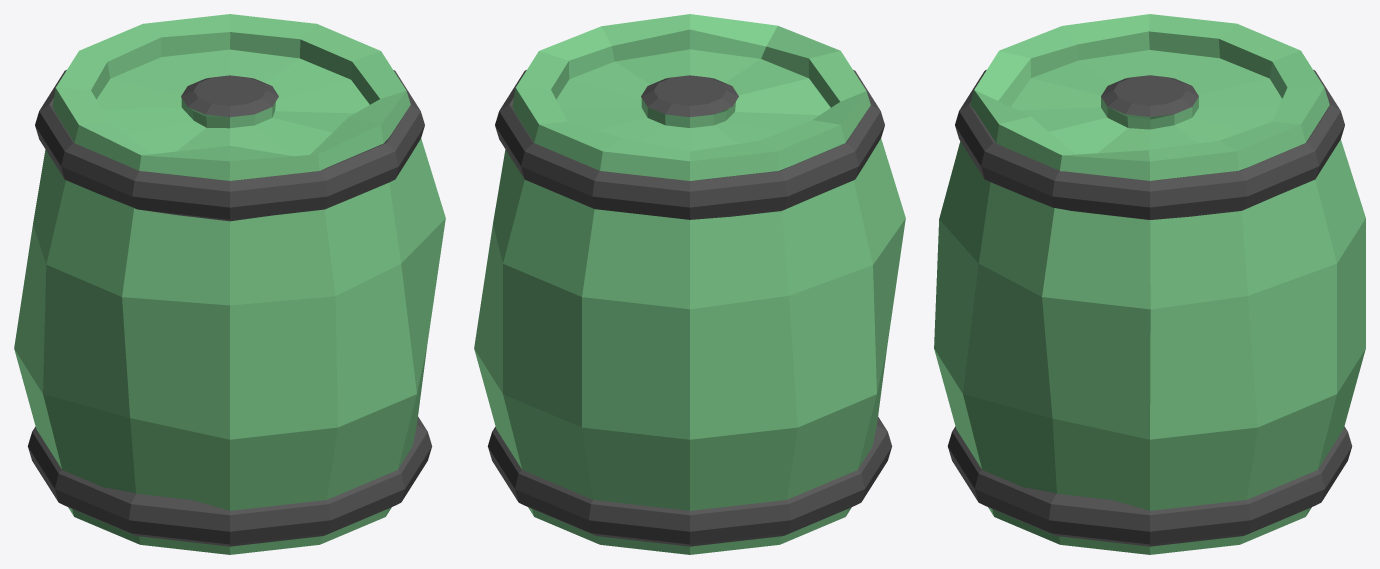
Rendered from special_barrel.fbx.
3 renders of one model, left to right at view 1: azimuth 30°, elevation 25°; view 2: azimuth 150°, elevation 25°; view 3: azimuth 270°, elevation 25°, orthographic.
Parts seen in each view (by area): view 1: Special Barrel; view 2: Special Barrel; view 3: Special Barrel.
Part boxes in pixels (x1,y1,x2,y2): Special Barrel: [14, 14, 445, 554]; Special Barrel: [474, 14, 905, 554]; Special Barrel: [934, 14, 1365, 554].
Bounding box in the file's own units: 200 × 200 × 200.
